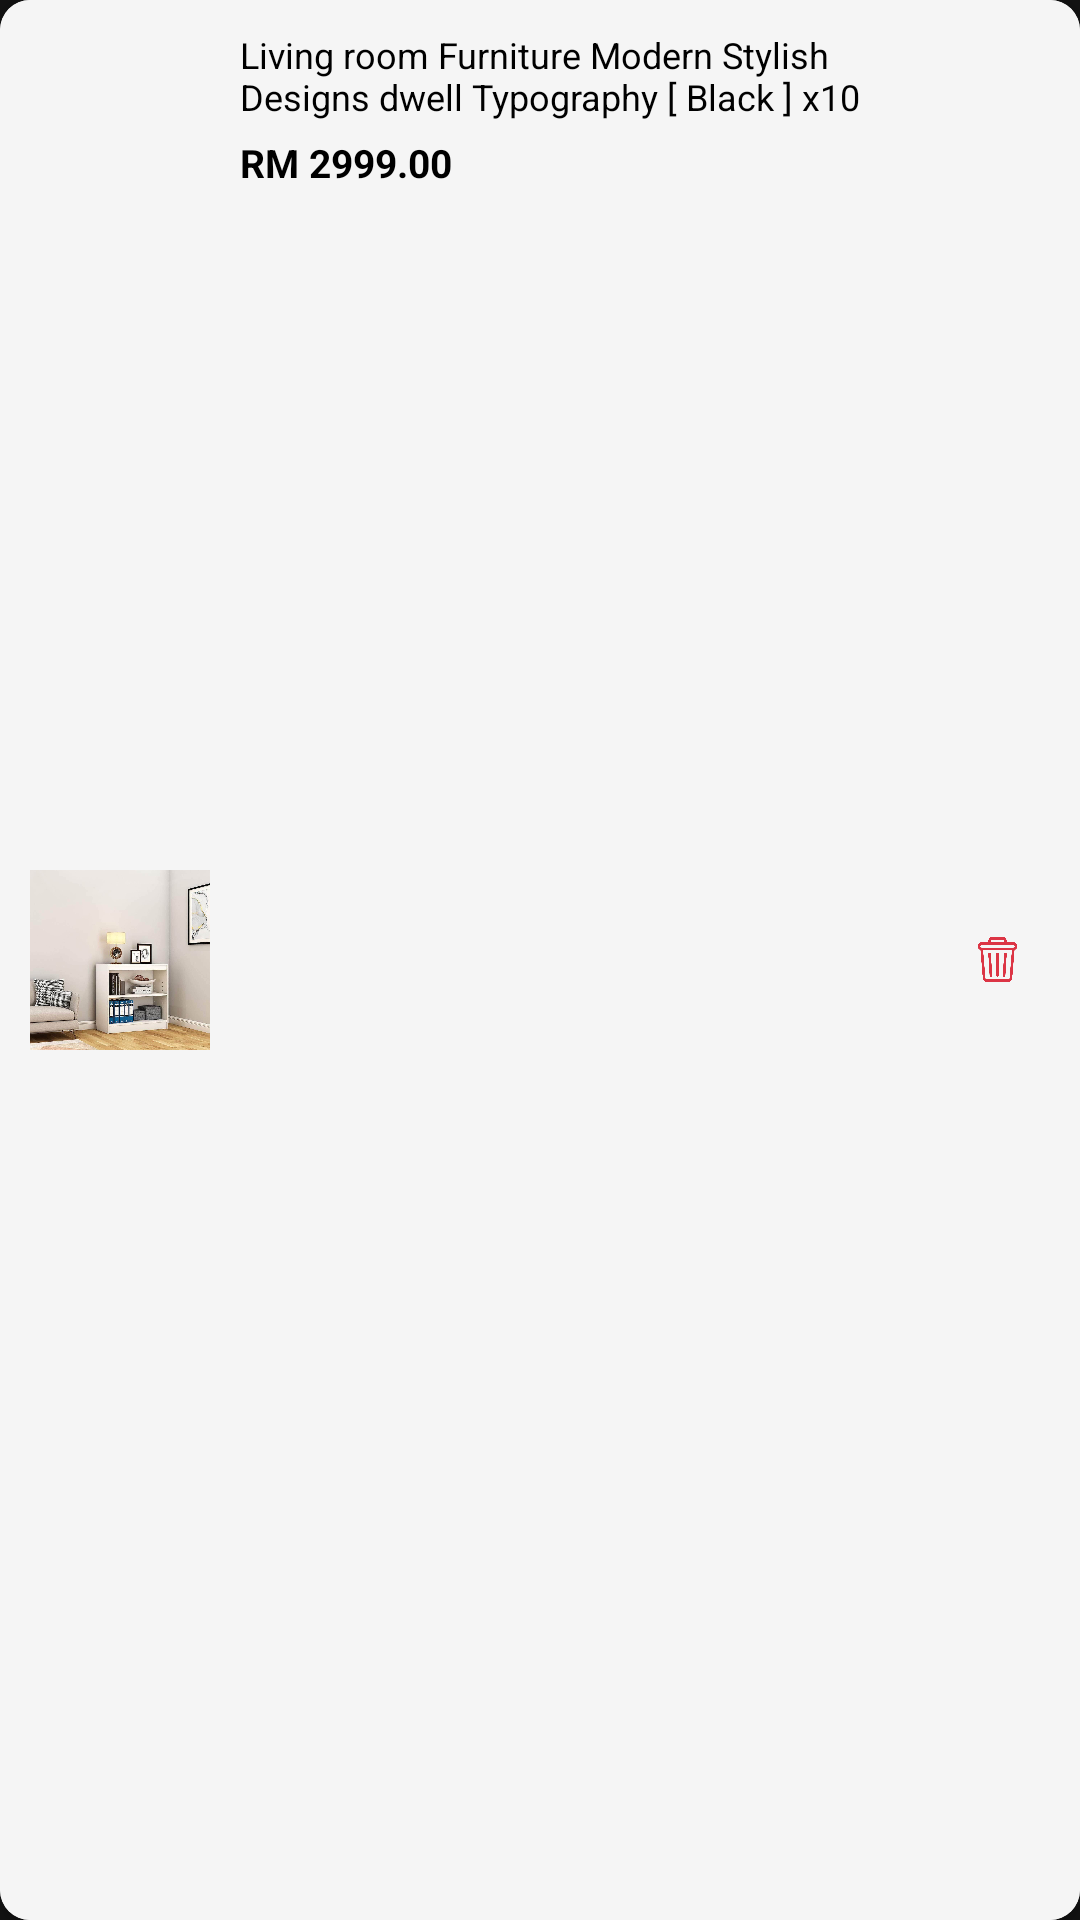

Icons on this 1080x1920 Android screen, each with the point to tap as (x=x, y=y):
Delete: (x=997, y=959)
product: (x=120, y=960)
